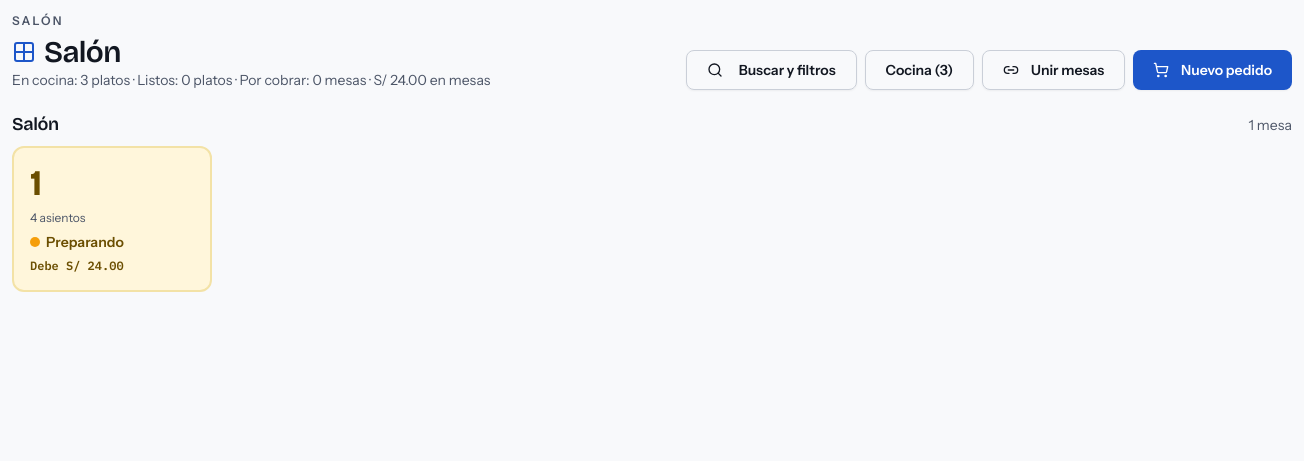
Scenario: hoja de mesa · paridad del prototipo (Slice 2) › S2-1 resume Consumido, Pagado y Pendiente de todas las cuentas
This screenshot has width=1304, height=461.
Click the element with test id "mesa-card-1".
click(112, 219)  # box [12,146,212,292]
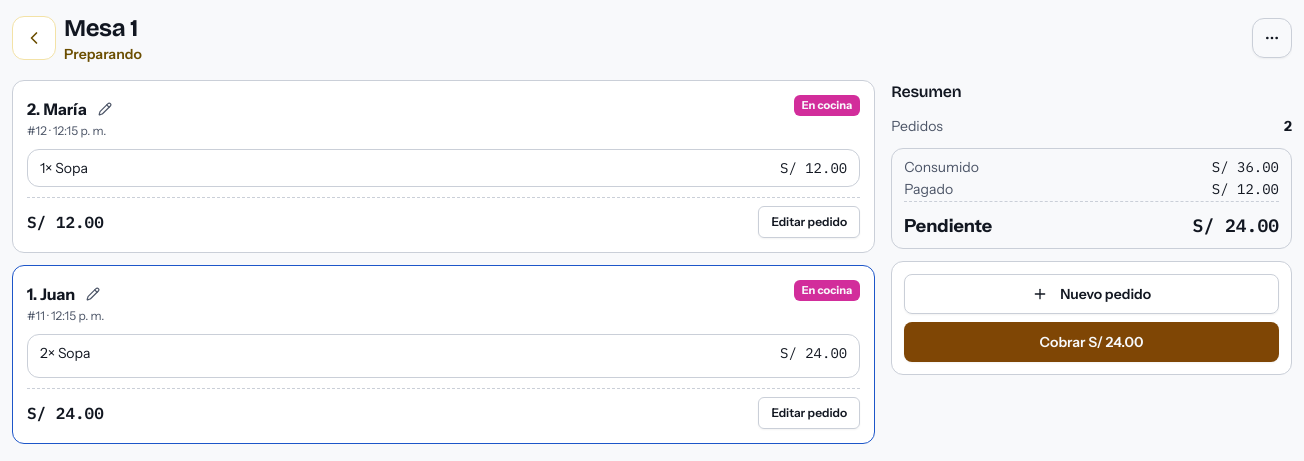
Expected: the element with test id "mesa-sheet-consumido" is shown, [904,157,1279,177]
Expected: the element with test id "mesa-sheet-consumido" shows "Consumido", [904,158,979,176]
Expected: the element with test id "mesa-sheet-consumido" shows "36.00", [1212,158,1279,176]
